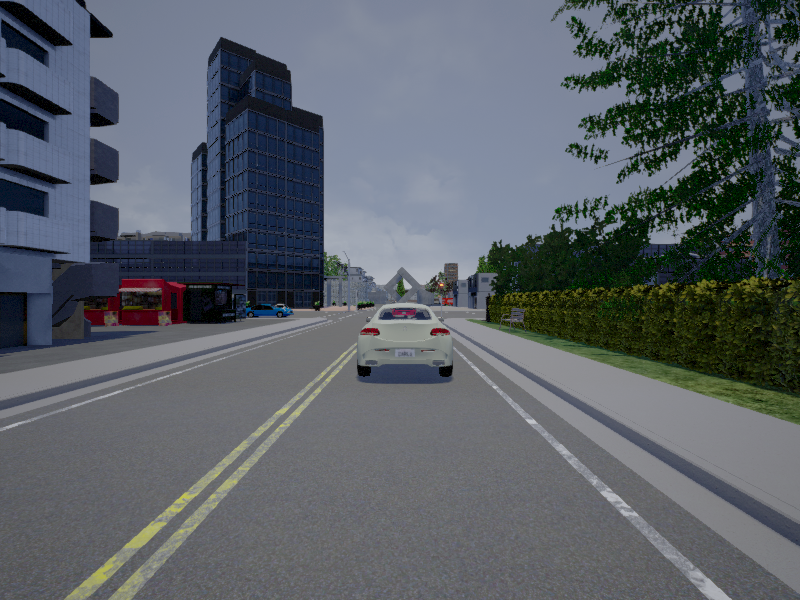Benign: (358, 301, 456, 380), (246, 302, 291, 318)
